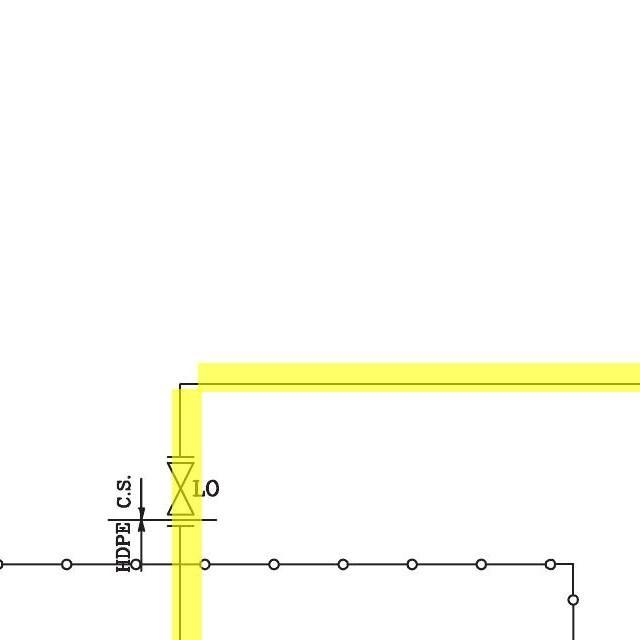GV: (161, 451, 197, 521)
